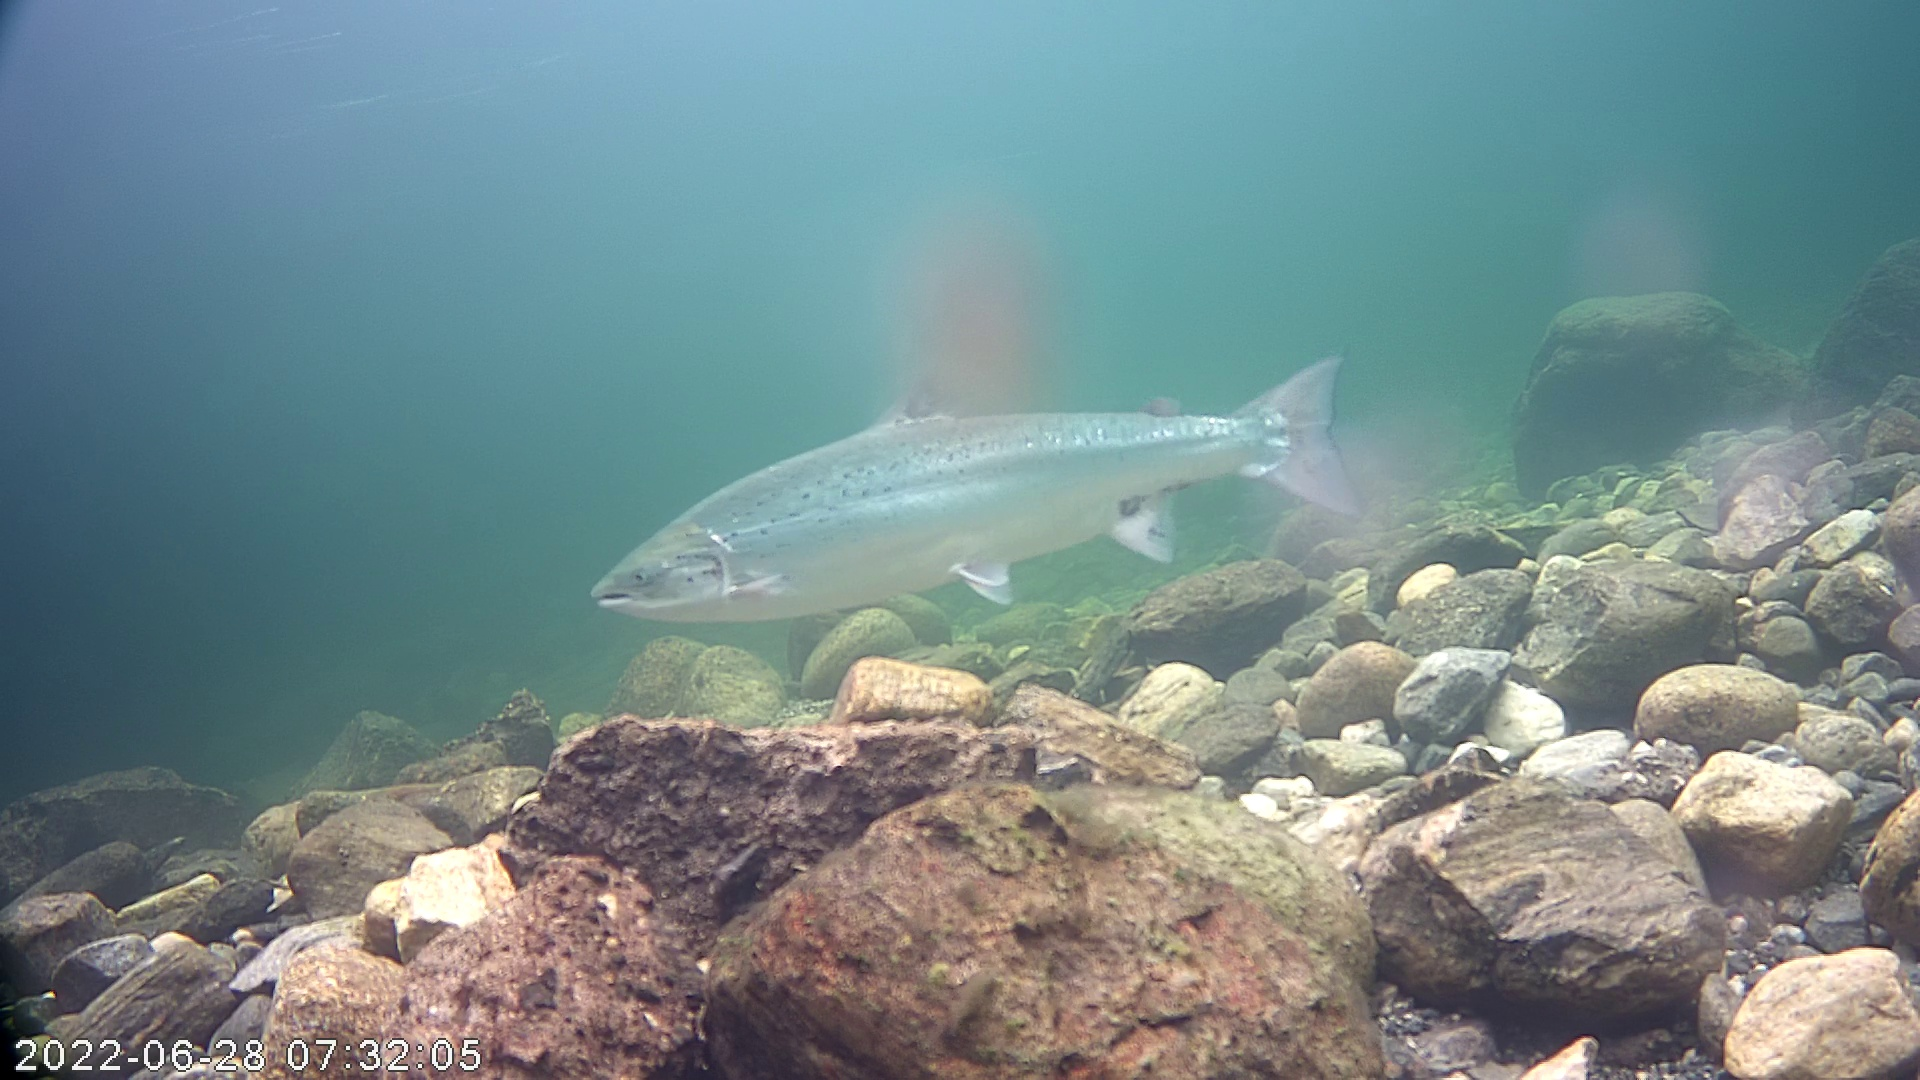salmon: (580, 229, 1400, 679)
